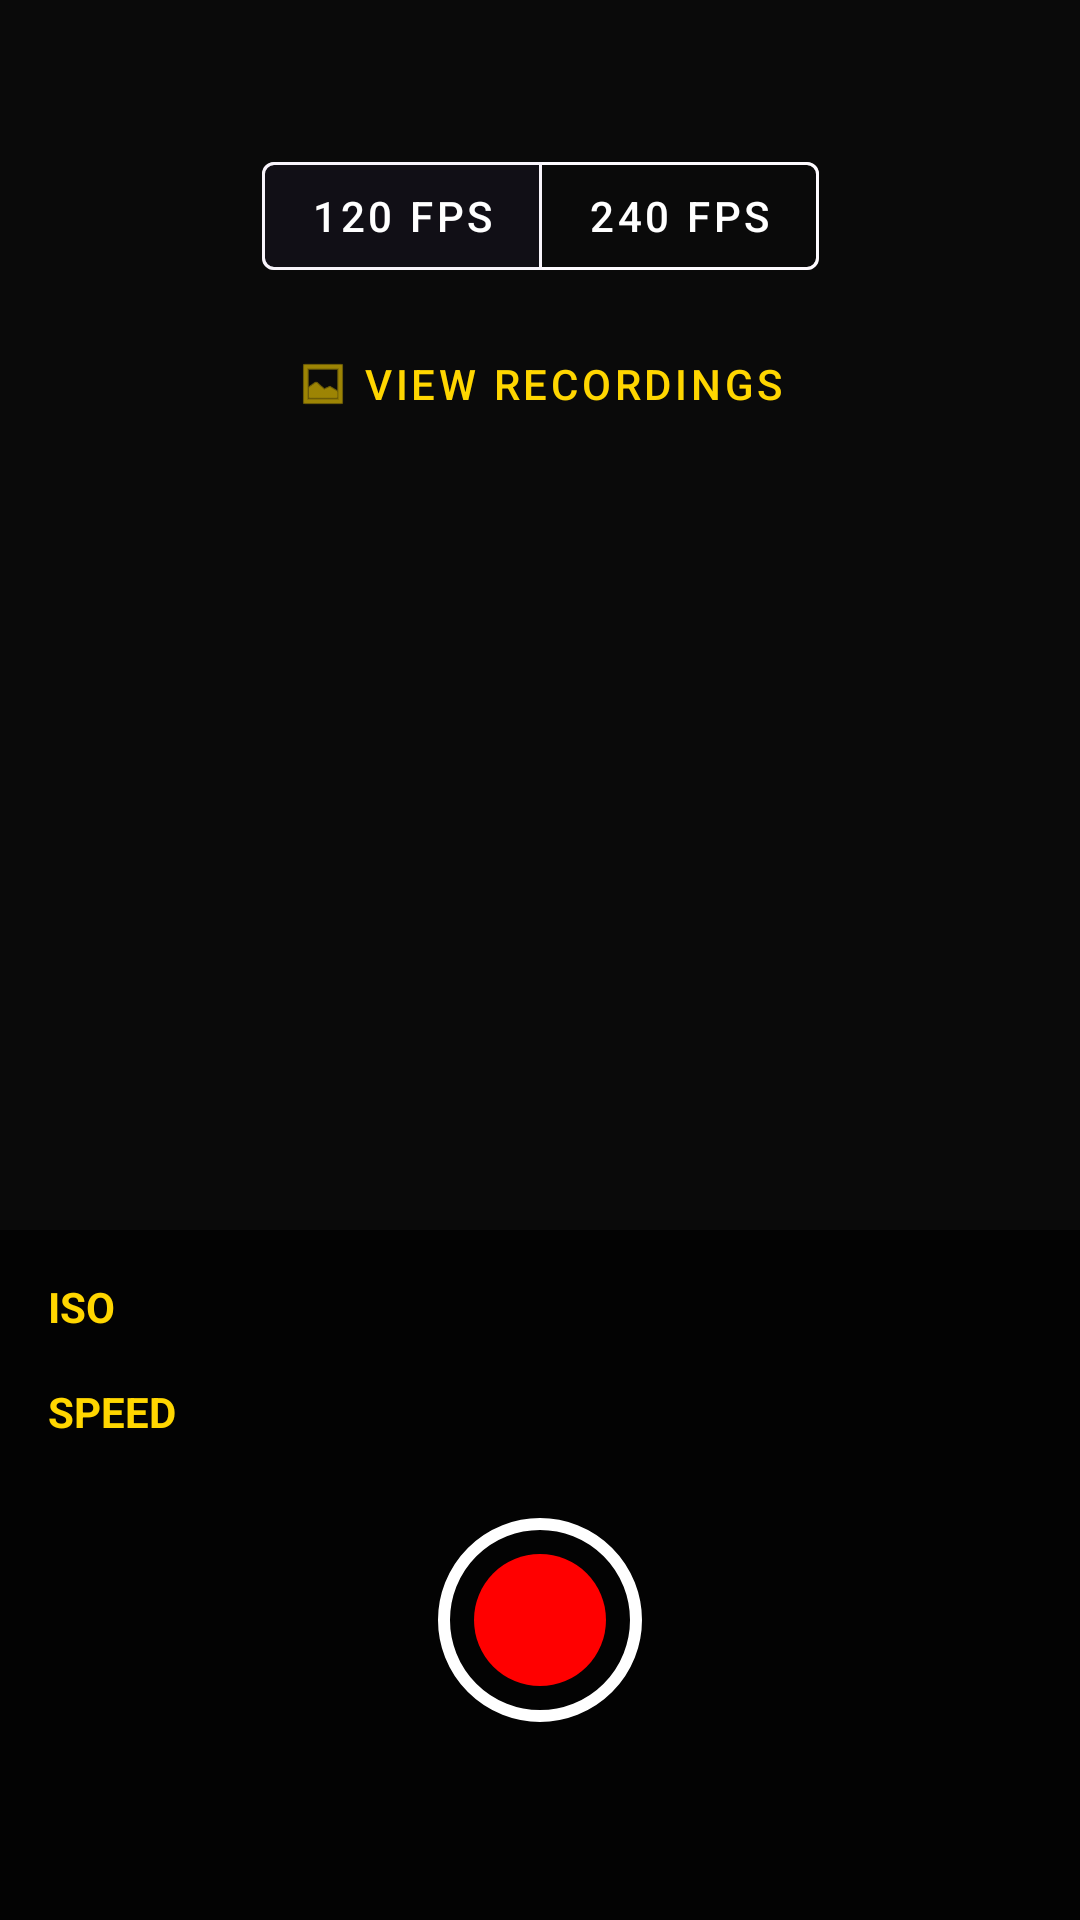

Icon click points for this 1080 x 1920 phone screenshot, format (x,y):
record circle: (540,1620)
